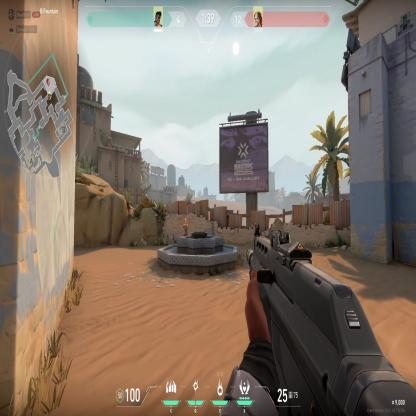enemy: (183, 217, 188, 236)
